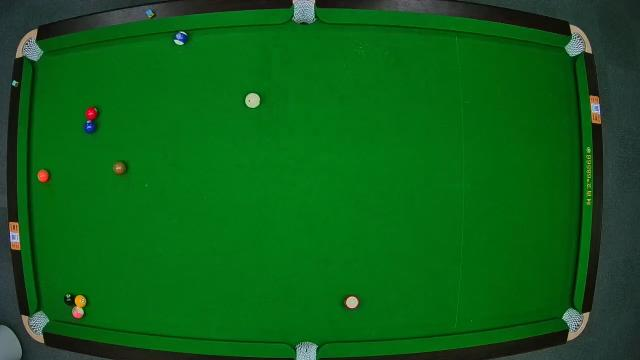bag1: (19, 36, 45, 64)
bag2: (292, 0, 316, 26)
bag3: (563, 30, 589, 57)
bag4: (25, 309, 51, 339)
bag5: (294, 340, 318, 360)
bag6: (560, 306, 586, 334)
ball0: (244, 92, 262, 110)
ball1: (74, 290, 90, 308)
ball10: (172, 30, 190, 46)
ball11: (344, 294, 360, 312)
ball12: (72, 304, 86, 320)
ball2: (84, 120, 98, 134)
ball3: (84, 106, 100, 120)
ball5: (35, 169, 51, 185)
ball7: (111, 160, 127, 178)
ball8: (61, 290, 77, 308)
